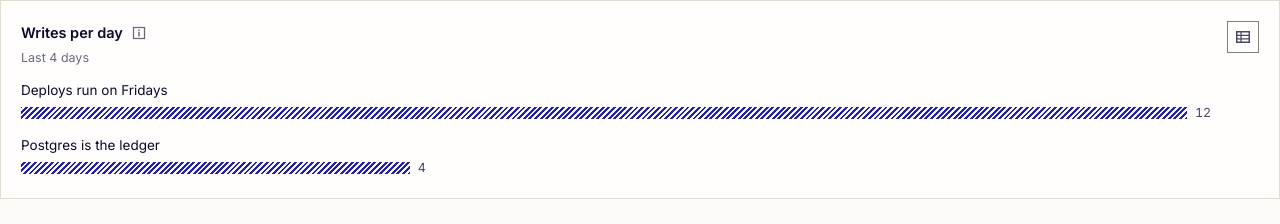
Test: BarList › ranks rows as links with the value at the tip and a table twin
Focus the link "Deploys run on Fridays" at (94,90), box top-left (21, 82), bottom-right (168, 98)
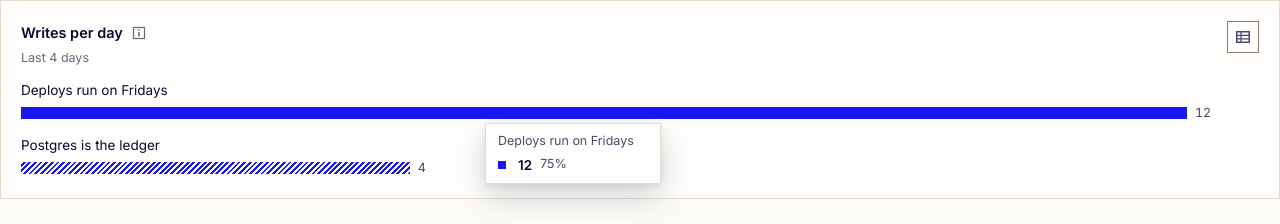
Now the element with test id "chart-tooltip" shows "75%", box top-left (540, 156), bottom-right (567, 171)
